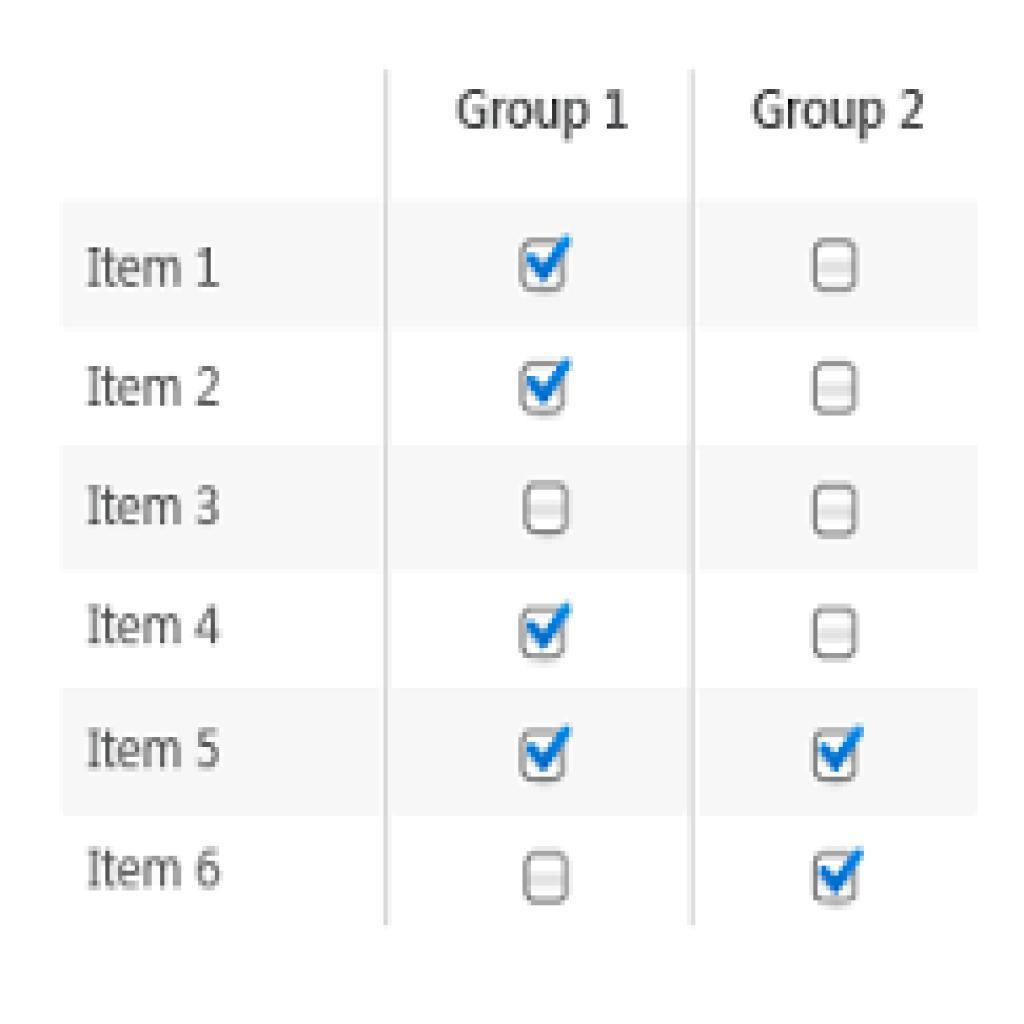checkbox: (514, 340, 585, 429), (518, 724, 575, 787), (807, 601, 865, 662), (518, 233, 573, 296), (809, 725, 867, 784), (809, 360, 861, 424), (812, 841, 864, 903), (521, 481, 573, 542), (809, 481, 858, 545), (523, 850, 574, 908), (812, 241, 862, 295), (521, 607, 570, 662)
